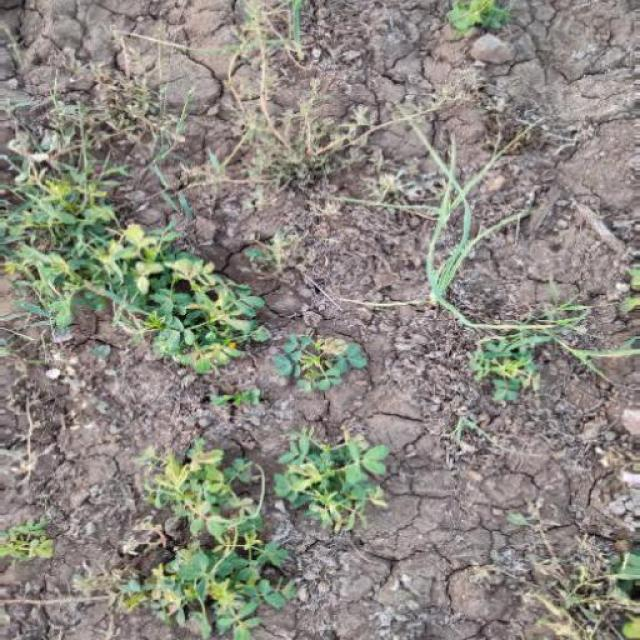weed: (39, 150, 354, 391), (395, 125, 583, 485), (100, 420, 390, 628)
